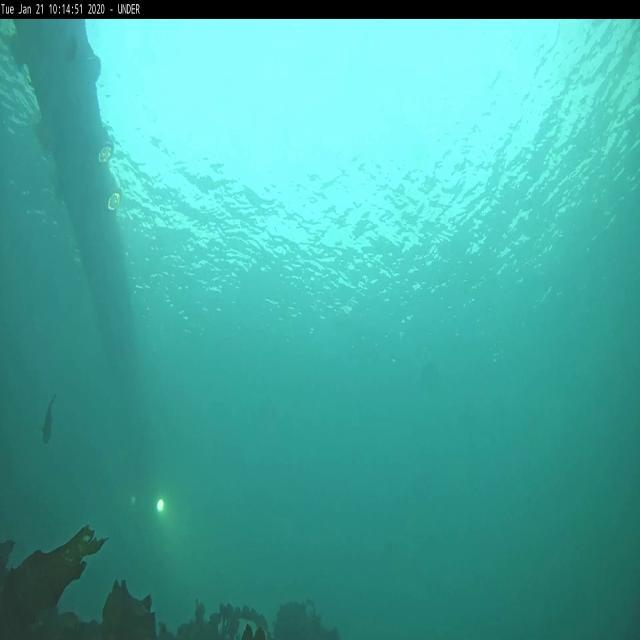fish: (41, 392, 55, 443)
